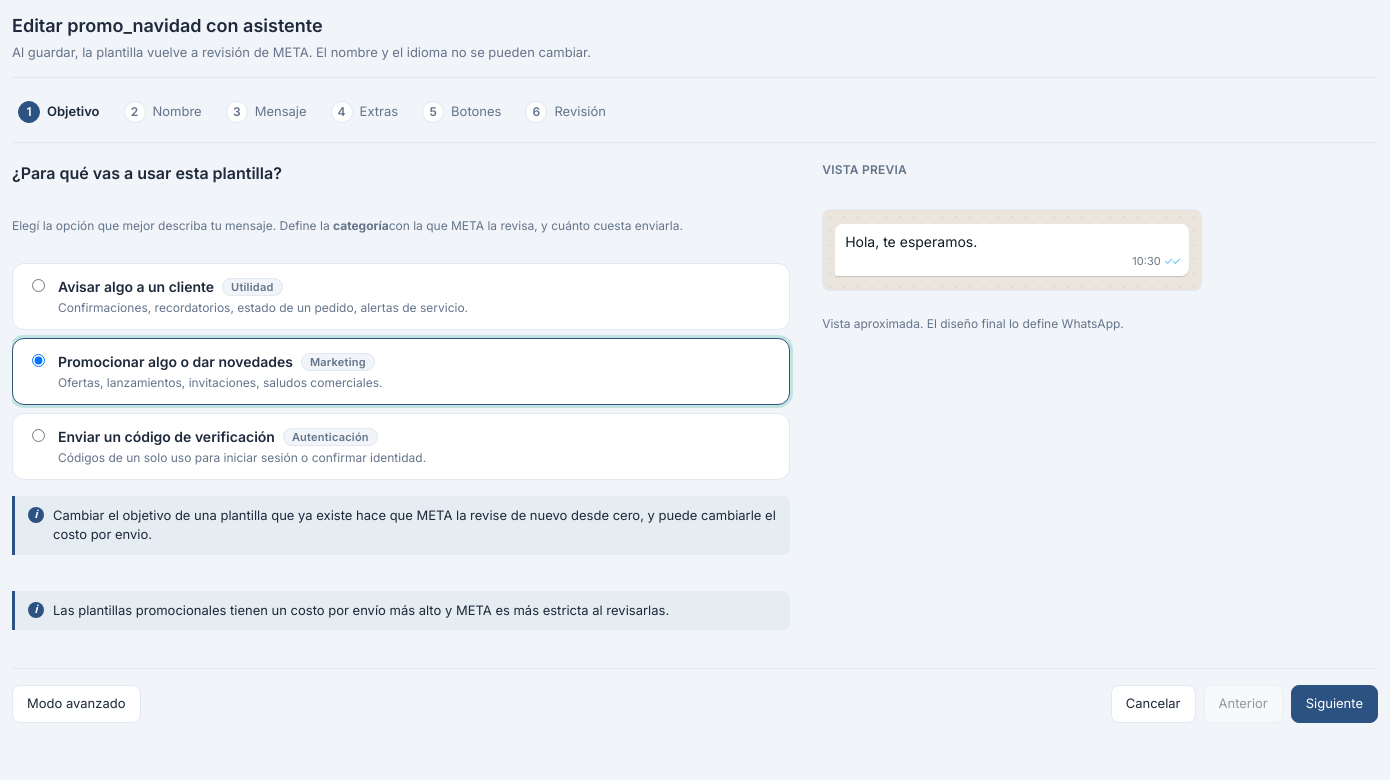
Scenario: TemplateWizard — un error no se ve igual que un aviso › editando una aprobada, el aviso dice que vuelve a revisión
The width and height of the screenshot is (1390, 780).
Click the button "6 Revisión" at (569, 112), box [519,96,618,128]
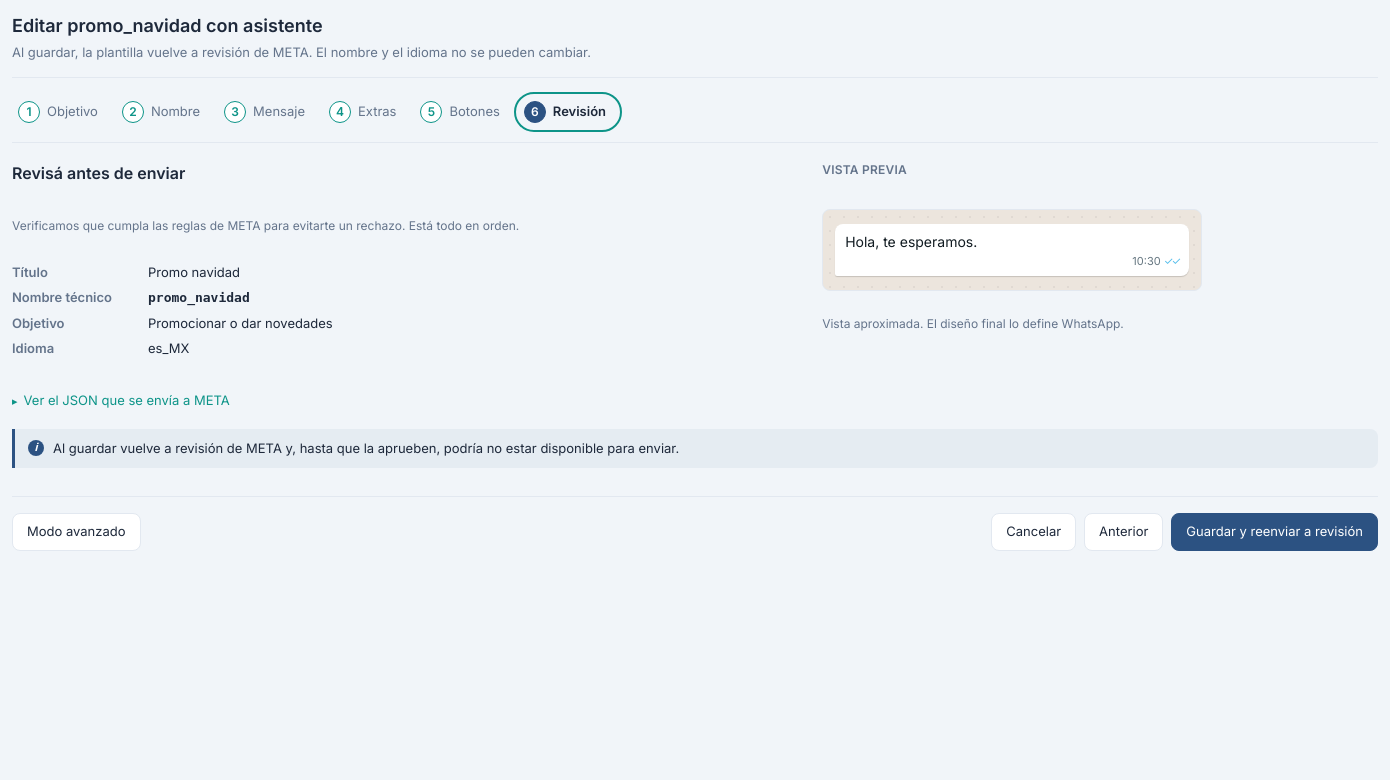
Expected: the text with class "bo-pl__notice--tight" shows "vuelve a revisión", [53,440,679,456]
